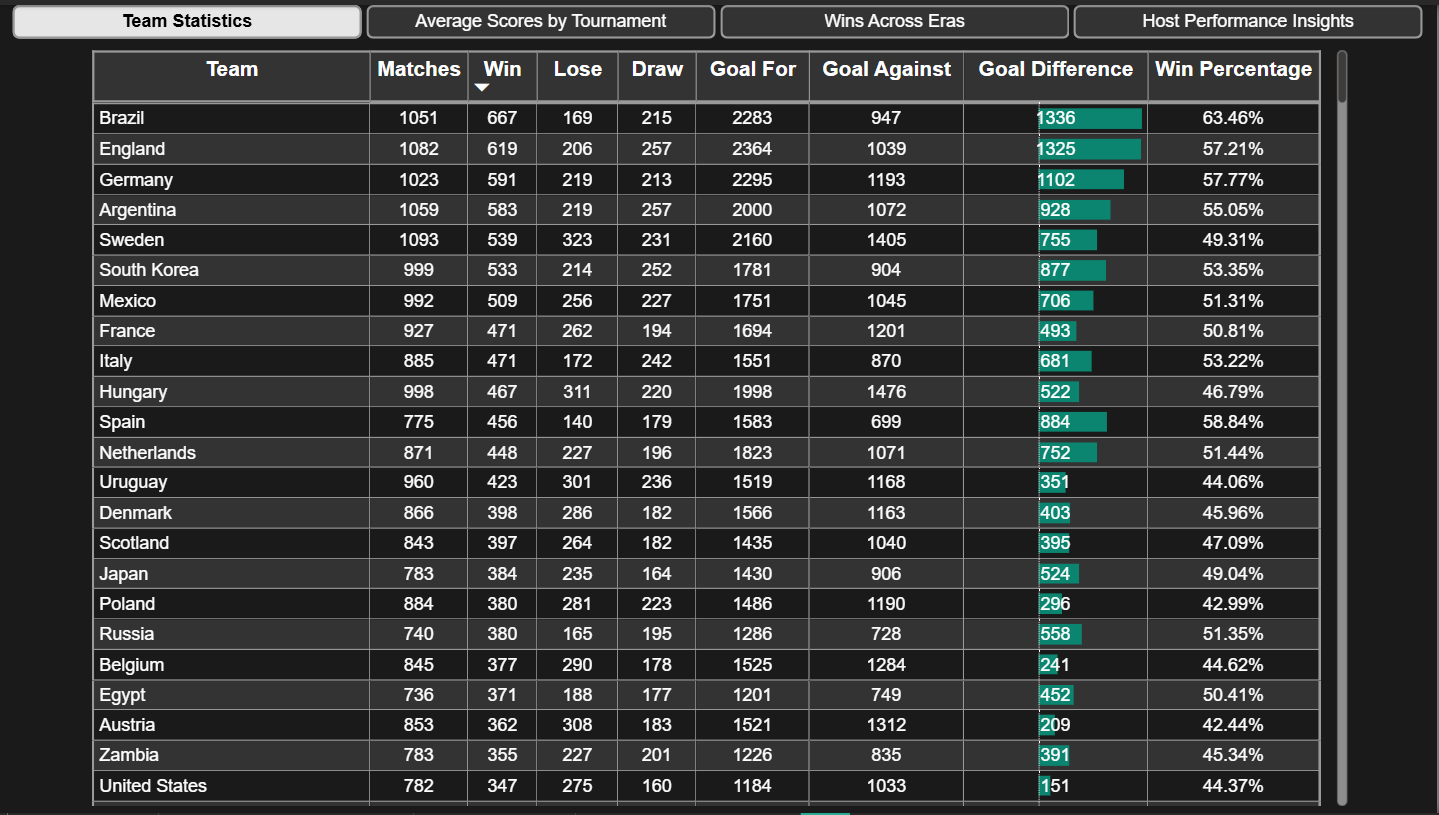

The page's visual inventory and layout, read from the dashboard file:
{"tool":"powerbi","page":{"name":"Team Statistics ","canvas":[1280,720],"ordinal":0},"visuals":[{"type":"pageNavigator","box":[11,0,1258.3,30.2],"z":0},{"type":"tableEx","fields":{"Values":["team stats.Team","Sum(team stats.Matches)","Sum(team stats.Win)","Sum(team stats.Lose)","Sum(team stats.Draw)","Sum(team stats.Goal For)","Sum(team stats.Goal Against)","Sum(team stats.Goal Difference)","Sum(team stats.Win Percentage)"]},"box":[76.1,35.6,1128.8,682.2],"z":1000}]}

Visuals, with their boxes in screenshot pixels (x1, y1, x2, y2), scaled from the page's 1280x720 canvas onto the 1439x815 screenshot:
pageNavigator: crop(12, 0, 1427, 34)
tableEx - team stats.Team x Sum(team stats.Matches): crop(86, 40, 1355, 813)
